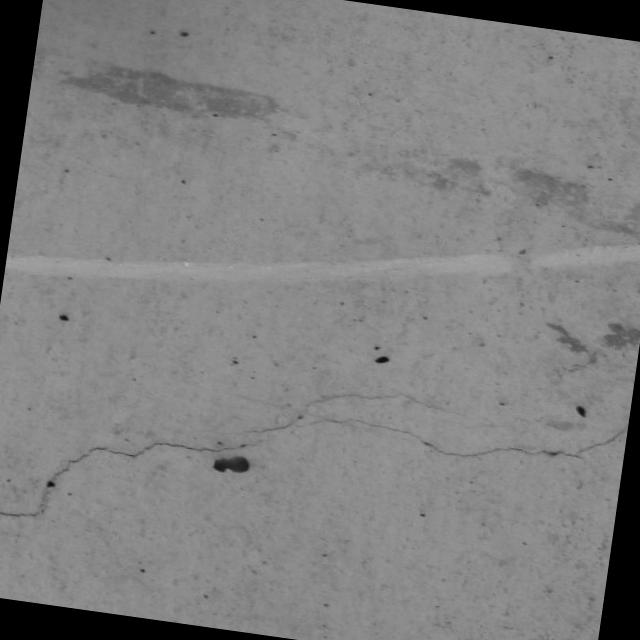crack: (0, 320, 627, 602)
